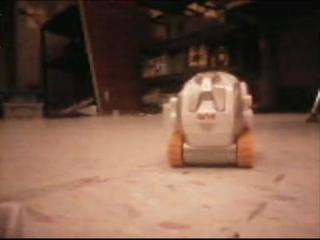cozmo: (163, 69, 256, 168)
